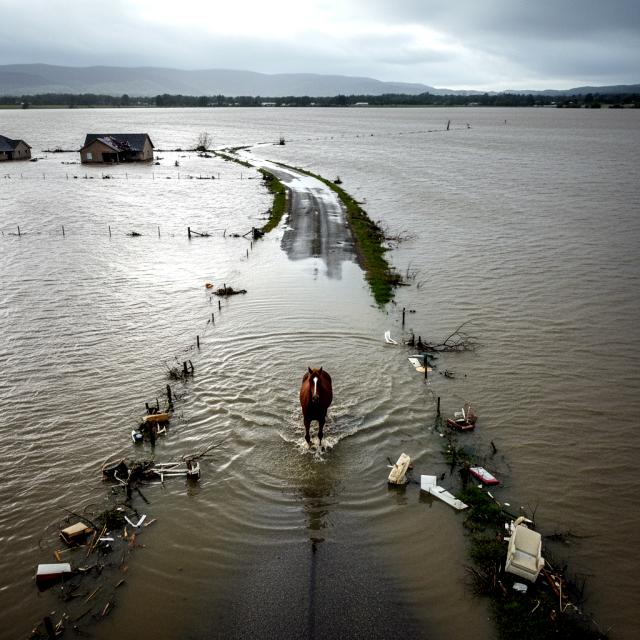horse: (281, 359, 359, 467)
